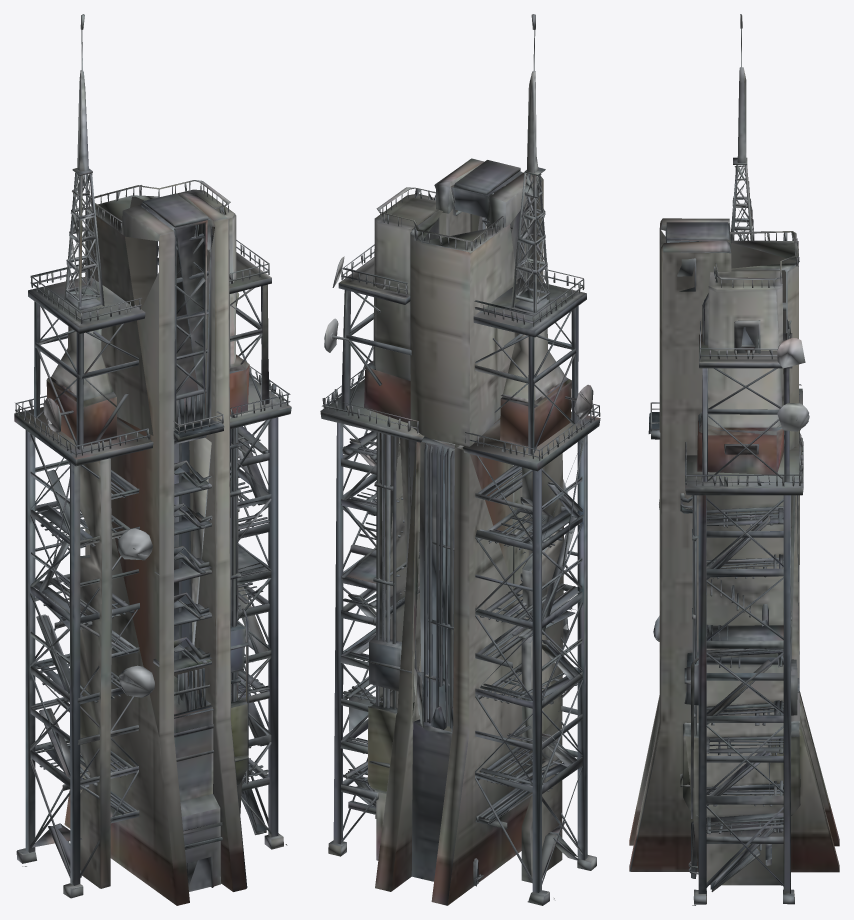
The model's file is commtower.glb.
The picture shows the model from 3 angles, left to right: view 1: azimuth 30°, elevation 25°; view 2: azimuth 150°, elevation 25°; view 3: azimuth 270°, elevation 25°; orthographic projection. The views are drawn at different scales.
Size of the model in its own units: 0.2569 by 0.9512 by 0.2236.
Materials: 1 (1 with a texture image).
